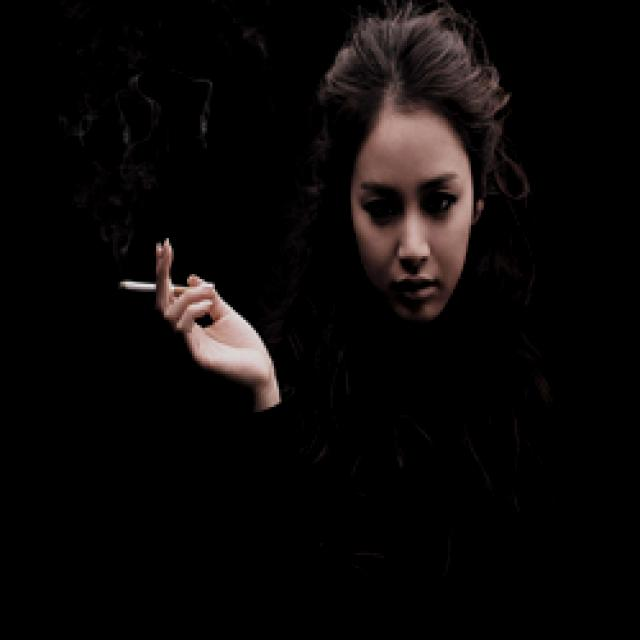Smooking: (117, 276, 156, 299)
